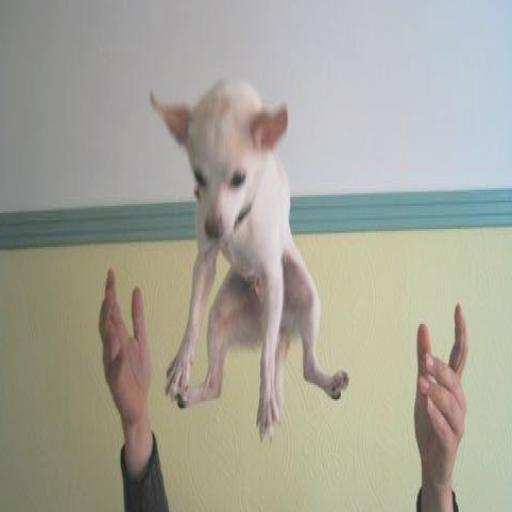dog_face: (154, 81, 285, 238)
